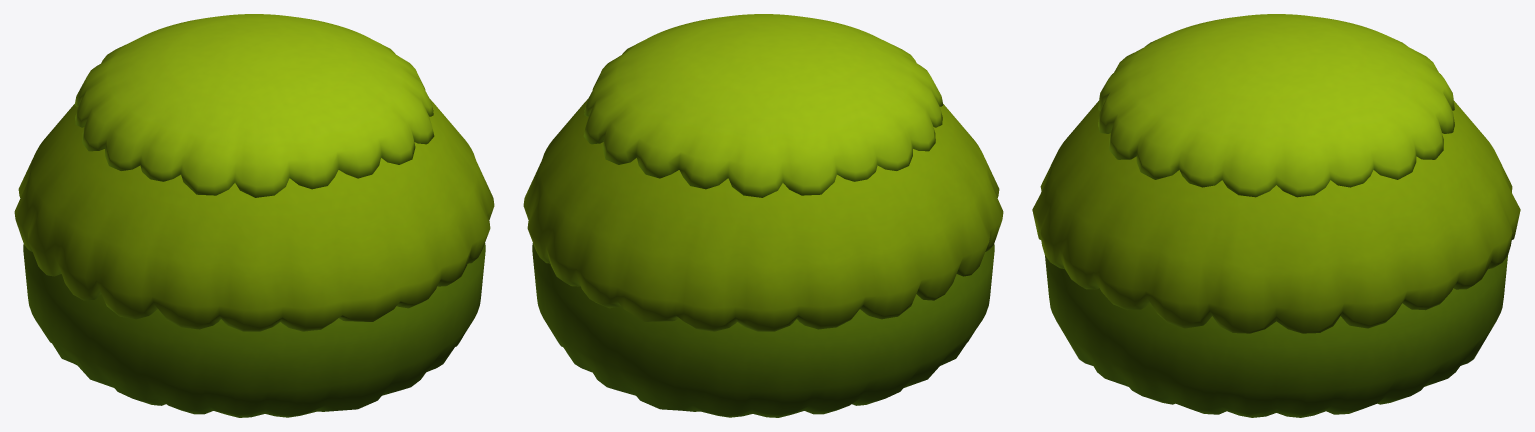
File: Bush.FBX
3 renders of one model, left to right at view 1: azimuth 30°, elevation 25°; view 2: azimuth 150°, elevation 25°; view 3: azimuth 270°, elevation 25°, orthographic.
Parts seen in each view (by area): view 1: Bush; view 2: Bush; view 3: Bush.
Part boxes in pixels (bbox=[...]): Bush: bbox=[14, 14, 494, 417]; Bush: bbox=[523, 14, 1003, 417]; Bush: bbox=[1032, 14, 1520, 417].
Bounding box in the file's own units: 85.3 × 59.91 × 87.64.
Materials: 1 (1 with a texture image).
